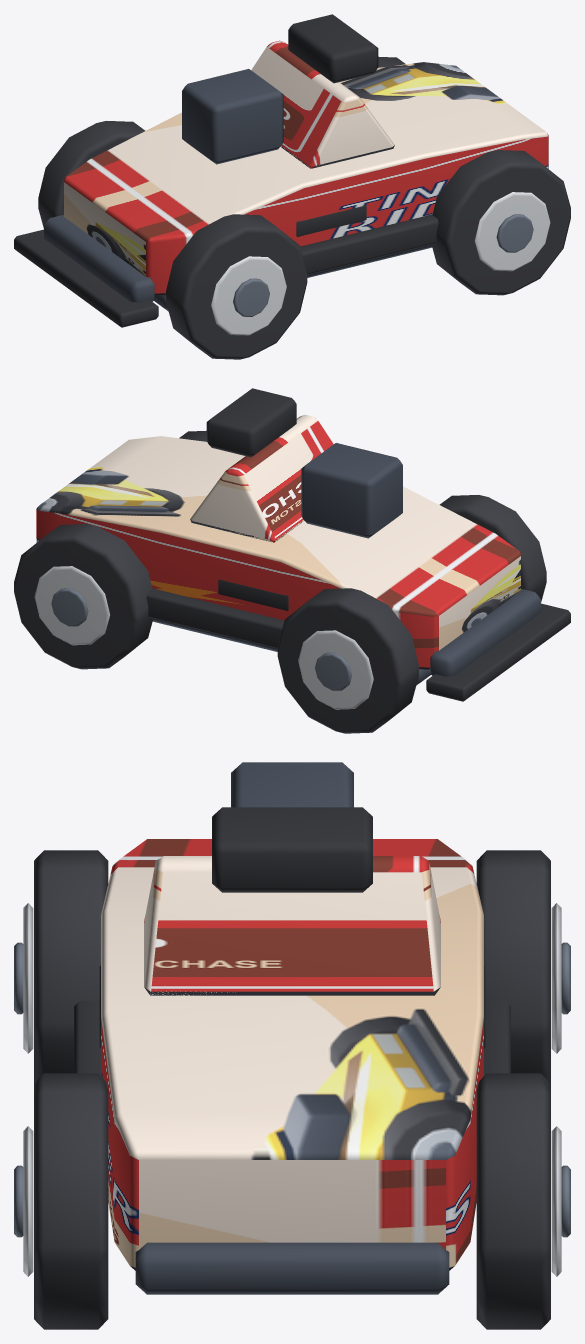
3 views of the same model, one above another, from view 1: azimuth 30°, elevation 25°; view 2: azimuth 150°, elevation 25°; view 3: azimuth 270°, elevation 25° (orthographic). The views are drawn at different scales.
Parts seen in each view (by area): view 1: RR-04_connected_shell, Tire, Tire.002, RR-04_cabin, engine scoop, custom equipment, custom chin, custom side guard, front bumper, Tire.001, Rim.002, Rim (+4 smaller); view 2: RR-04_connected_shell, Tire.001, Tire.003, RR-04_cabin, engine scoop, custom equipment, custom chin, custom side guard.001, front bumper, Tire, Rim.003, Rim.001 (+4 smaller); view 3: RR-04_connected_shell, RR-04_cabin, Tire.002, Tire.003, rear bumper, custom equipment, Tire, Tire.001, engine scoop, custom side guard, custom side guard.001, Rim.002 (+7 smaller).
Boxes of the visible parts, x1=… form: RR-04_connected_shell: x1=64, y1=62, x2=548, y2=295; Tire: x1=166, y1=214, x2=307, y2=359; Tire.002: x1=431, y1=150, x2=570, y2=295; RR-04_cabin: x1=251, y1=40, x2=394, y2=168; engine scoop: x1=182, y1=69, x2=283, y2=164; custom equipment: x1=288, y1=14, x2=378, y2=83; custom chin: x1=14, y1=229, x2=158, y2=327; custom side guard: x1=300, y1=214, x2=438, y2=274; front bumper: x1=44, y1=215, x2=155, y2=302; Tire.001: x1=38, y1=121, x2=145, y2=227; Rim.002: x1=475, y1=192, x2=550, y2=271; Rim: x1=211, y1=256, x2=286, y2=335; RR-04_connected_shell: x1=36, y1=436, x2=520, y2=669; Tire.001: x1=277, y1=588, x2=418, y2=733; Tire.003: x1=14, y1=524, x2=153, y2=669; RR-04_cabin: x1=190, y1=414, x2=333, y2=542; engine scoop: x1=301, y1=443, x2=402, y2=538; custom equipment: x1=206, y1=388, x2=296, y2=457; custom chin: x1=426, y1=603, x2=570, y2=701; custom side guard.001: x1=146, y1=588, x2=284, y2=648; front bumper: x1=429, y1=589, x2=540, y2=676; Tire: x1=439, y1=495, x2=546, y2=601; Rim.003: x1=34, y1=566, x2=109, y2=645; Rim.001: x1=298, y1=630, x2=373, y2=709; RR-04_connected_shell: x1=101, y1=839, x2=483, y2=1270; RR-04_cabin: x1=144, y1=856, x2=440, y2=995; Tire.002: x1=34, y1=1073, x2=108, y2=1329; Tire.003: x1=476, y1=1073, x2=550, y2=1329; rear bumper: x1=135, y1=1242, x2=449, y2=1294; custom equipment: x1=212, y1=807, x2=372, y2=892; Tire: x1=34, y1=850, x2=108, y2=1083; Tire.001: x1=476, y1=850, x2=550, y2=1083; engine scoop: x1=231, y1=762, x2=353, y2=807; custom side guard: x1=74, y1=1000, x2=100, y2=1075; custom side guard.001: x1=484, y1=1000, x2=510, y2=1075; Rim.002: x1=23, y1=1126, x2=33, y2=1276.
Bounding box in the file's own units: 317 × 156 × 195.
